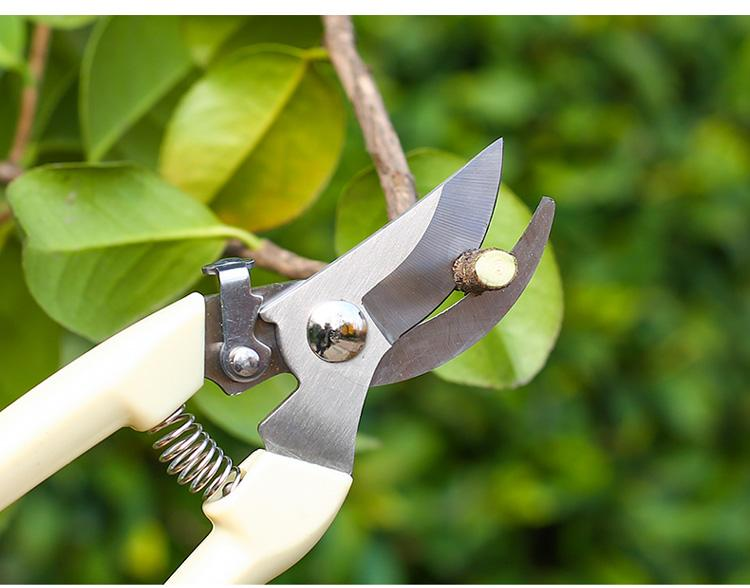scissor: (12, 238, 583, 588)
